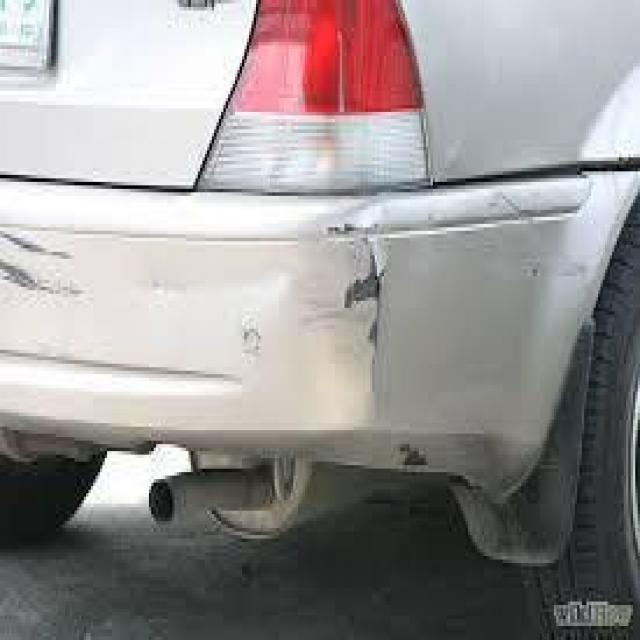damaged: (233, 199, 426, 469), (0, 227, 100, 308)
